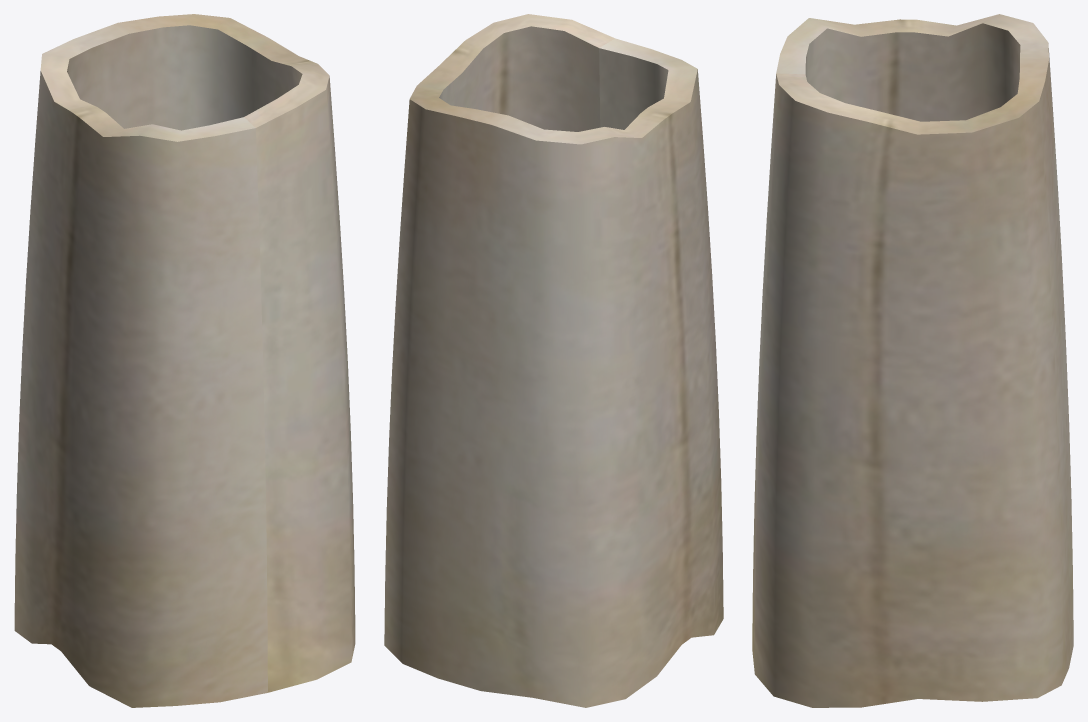
The picture shows the model from 3 angles, left to right: view 1: azimuth 30°, elevation 25°; view 2: azimuth 150°, elevation 25°; view 3: azimuth 270°, elevation 25°; orthographic projection. The views are drawn at different scales.
Visible parts, largest first — view 1: g_sheli; view 2: g_sheli; view 3: g_sheli.
Boxes of the visible parts, <box> form: g_sheli: <box>14,14,355,707</box>; g_sheli: <box>384,14,723,707</box>; g_sheli: <box>752,14,1073,707</box>.
Bounding box in the file's own units: 1.36 × 2.77 × 1.37.
1 material, 1 textured.
